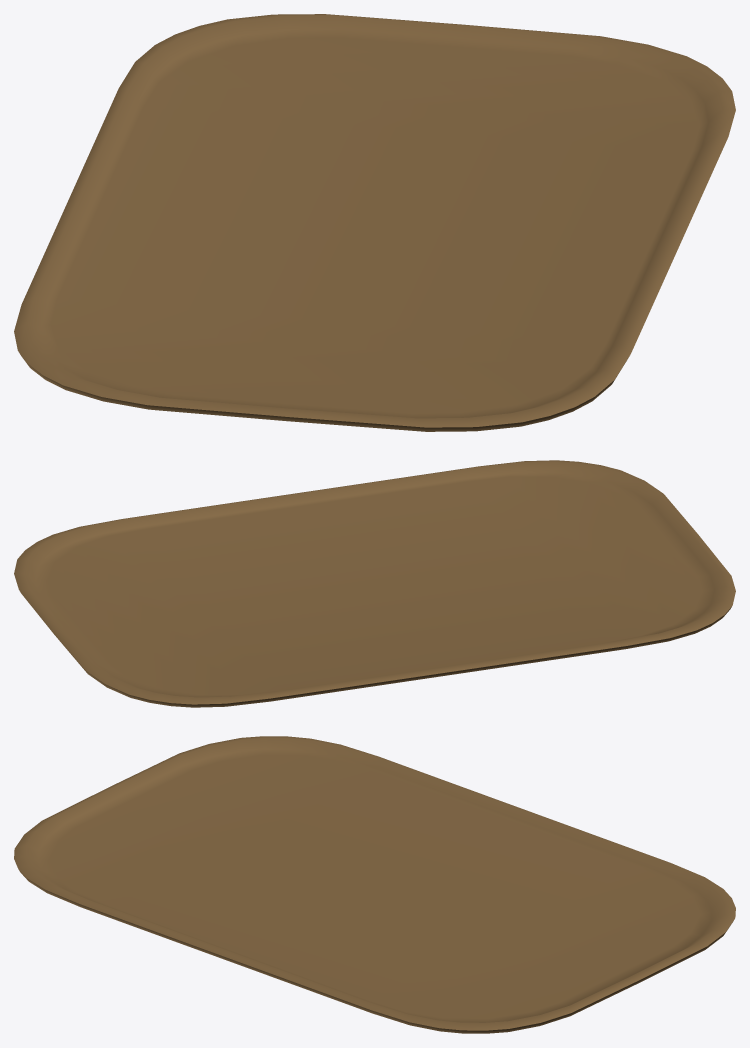
The model's file is ServingTray.fbx.
The picture shows the model from 3 angles, top to bottom: view 1: azimuth 30°, elevation 25°; view 2: azimuth 150°, elevation 25°; view 3: azimuth 270°, elevation 25°; orthographic projection. The views are drawn at different scales.
Parts seen in each view (by area): view 1: SM_DishTray_03_Trays_0.001; view 2: SM_DishTray_03_Trays_0.001; view 3: SM_DishTray_03_Trays_0.001.
Part boxes in pixels (x1=…): SM_DishTray_03_Trays_0.001: x1=14, y1=14, x2=735, y2=431; SM_DishTray_03_Trays_0.001: x1=14, y1=460, x2=735, y2=707; SM_DishTray_03_Trays_0.001: x1=14, y1=736, x2=735, y2=1033.
Bounding box in the file's own units: 5498 × 67.23 × 5696.
